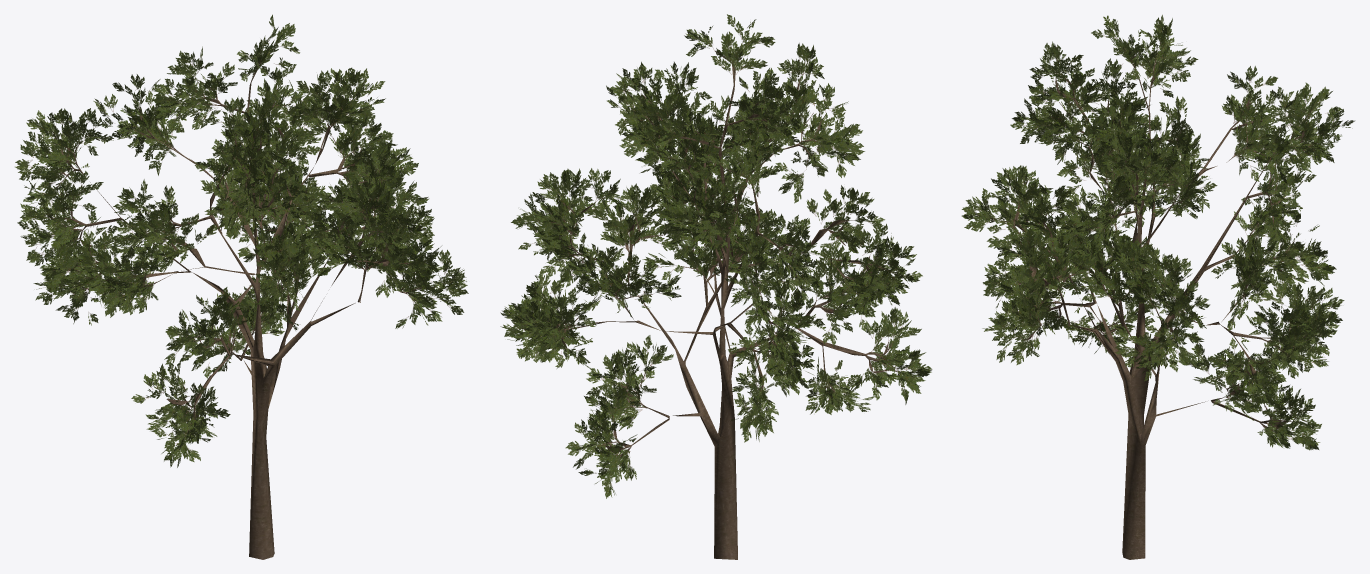
File: enc_tree_autumn.glb
3 views of the same model, side by side, from view 1: azimuth 30°, elevation 25°; view 2: azimuth 150°, elevation 25°; view 3: azimuth 270°, elevation 25° (orthographic).
Parts seen in each view (by area): view 1: KB3D_ENC_BldgSmUpperTownSquare_A_TreeC; view 2: KB3D_ENC_BldgSmUpperTownSquare_A_TreeC; view 3: KB3D_ENC_BldgSmUpperTownSquare_A_TreeC.
Part boxes in pixels (x1,y1,x2,y2): KB3D_ENC_BldgSmUpperTownSquare_A_TreeC: (15,14,468,559); KB3D_ENC_BldgSmUpperTownSquare_A_TreeC: (500,14,932,559); KB3D_ENC_BldgSmUpperTownSquare_A_TreeC: (961,15,1354,559).
Size of the model in its own units: 6.11 by 8.39 by 5.62.
2 materials, 2 textured.
